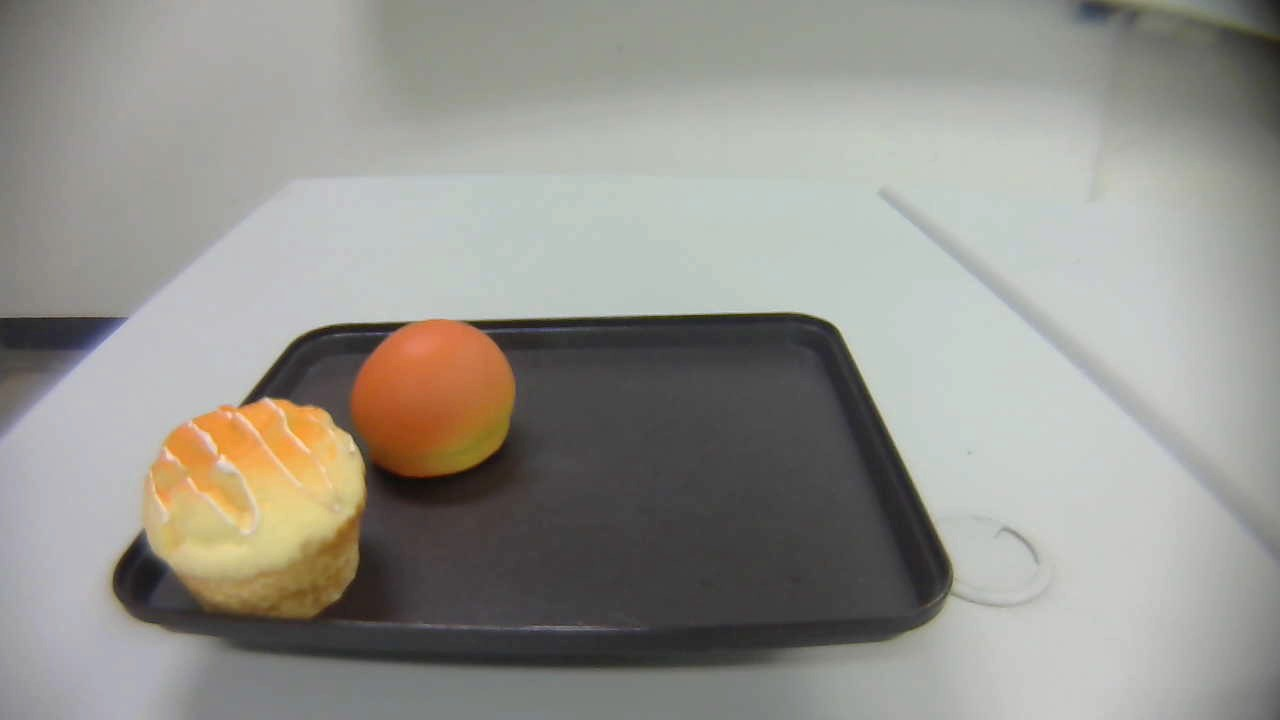bun: (350, 319, 517, 480)
cupcake: (143, 398, 367, 623)
